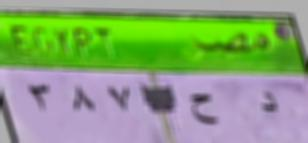3: (23, 79, 55, 118)
7: (107, 82, 132, 116)
7aa: (187, 89, 218, 127)
8: (72, 85, 95, 116)
daal: (255, 88, 281, 120)
